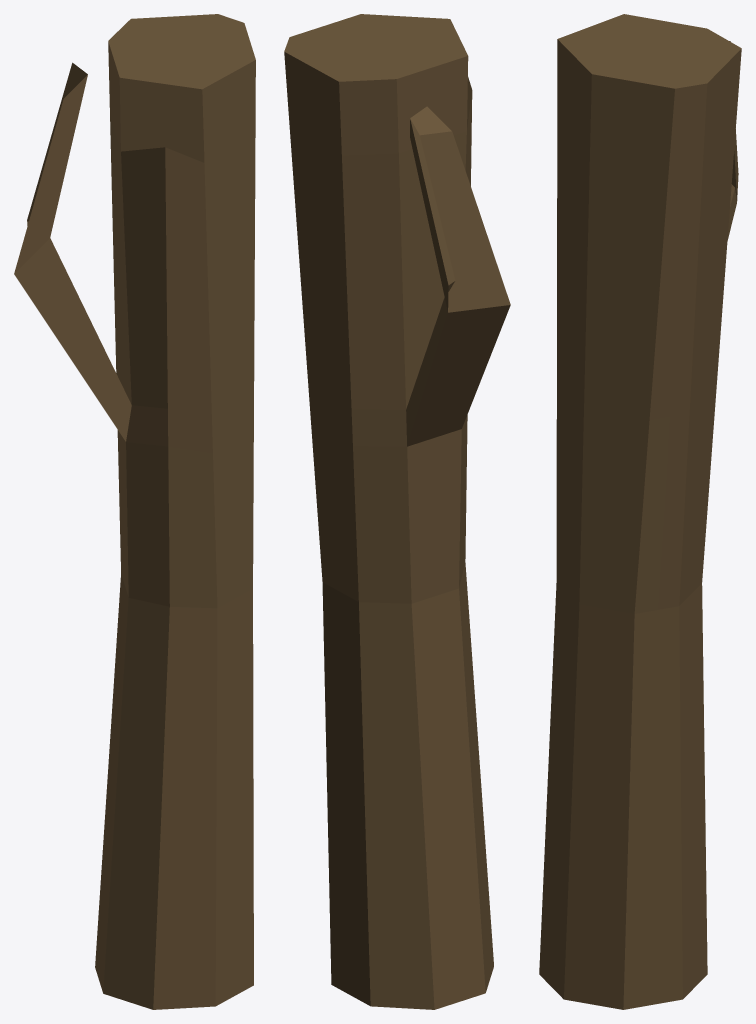
File: floating tree.2blend.fbx
The picture shows the model from 3 angles, left to right: view 1: azimuth 30°, elevation 25°; view 2: azimuth 150°, elevation 25°; view 3: azimuth 270°, elevation 25°; orthographic projection. The views are drawn at different scales.
Parts seen in each view (by area): view 1: Cylinder; view 2: Cylinder; view 3: Cylinder.
Part boxes in pixels (bbox=[...]): Cylinder: bbox=[14, 14, 255, 1009]; Cylinder: bbox=[284, 14, 510, 1009]; Cylinder: bbox=[539, 14, 741, 1009].
Bounding box in the file's own units: 212 × 827 × 163.
